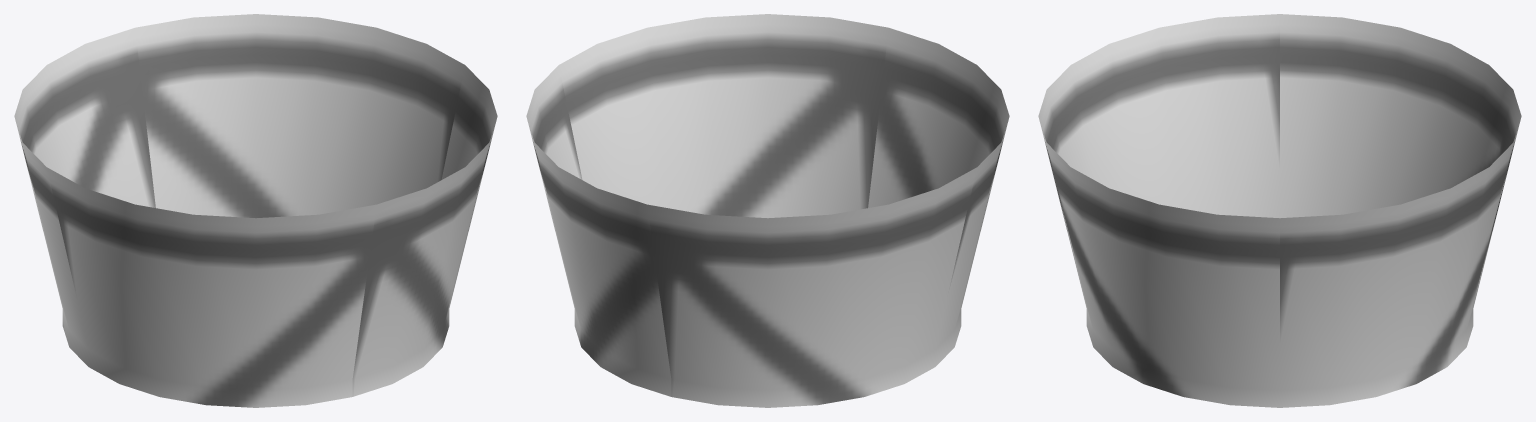
Rendered from basic_engine.fbx.
3 renders of one model, left to right at view 1: azimuth 30°, elevation 25°; view 2: azimuth 150°, elevation 25°; view 3: azimuth 270°, elevation 25°, orthographic.
Parts seen in each view (by area): view 1: mesh; view 2: mesh; view 3: mesh.
Part boxes in pixels (x1,y1,x2,y2): mesh: [14, 14, 497, 407]; mesh: [526, 14, 1009, 407]; mesh: [1038, 14, 1521, 407].
Bounding box in the file's own units: 0.625 × 0.325 × 0.625.
